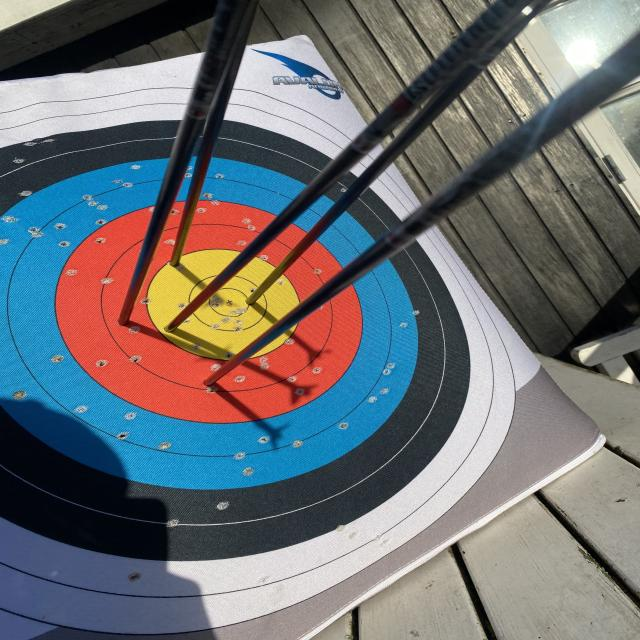Arrow_Red: (193, 364, 236, 403), (111, 300, 150, 338)
Arrow_Yellow: (161, 241, 201, 282), (163, 312, 197, 344), (245, 289, 274, 316)
